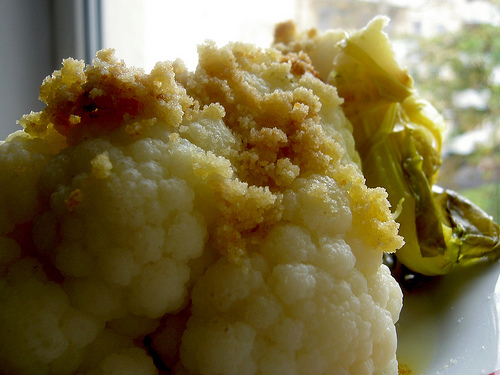cauliflower: (1, 37, 406, 374)
